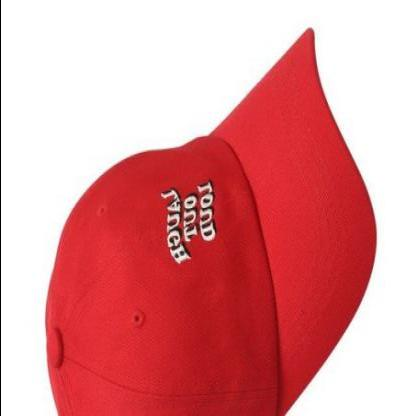cap: (38, 13, 382, 415)
